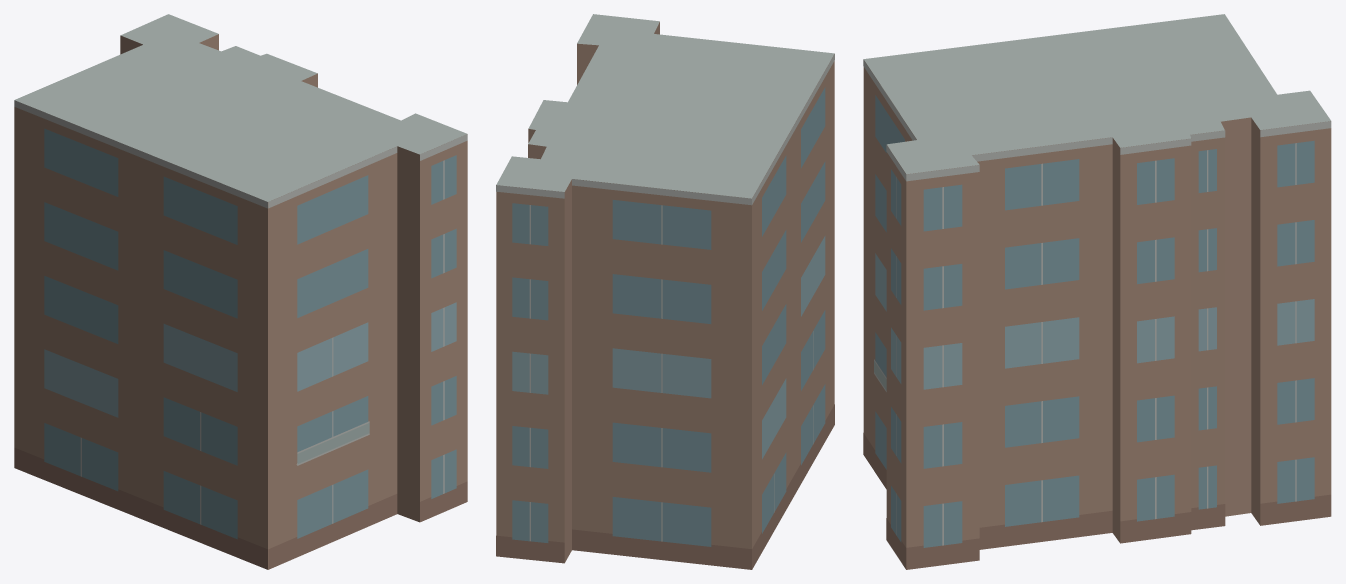
Rendered from survey-upis-32755752.glb.
3 renders of one model, left to right at view 1: azimuth 30°, elevation 25°; view 2: azimuth 150°, elevation 25°; view 3: azimuth 270°, elevation 25°, orthographic. The views are drawn at different scales.
Visible parts, largest first — view 1: survey-upis-32755752.tmp; view 2: survey-upis-32755752.tmp; view 3: survey-upis-32755752.tmp.
Part boxes in pixels (<box>): survey-upis-32755752.tmp: <box>14,14,467,569</box>; survey-upis-32755752.tmp: <box>496,14,834,569</box>; survey-upis-32755752.tmp: <box>863,14,1331,569</box>.
Bounding box in the file's own units: 11.83 × 13.6 × 14.59.
